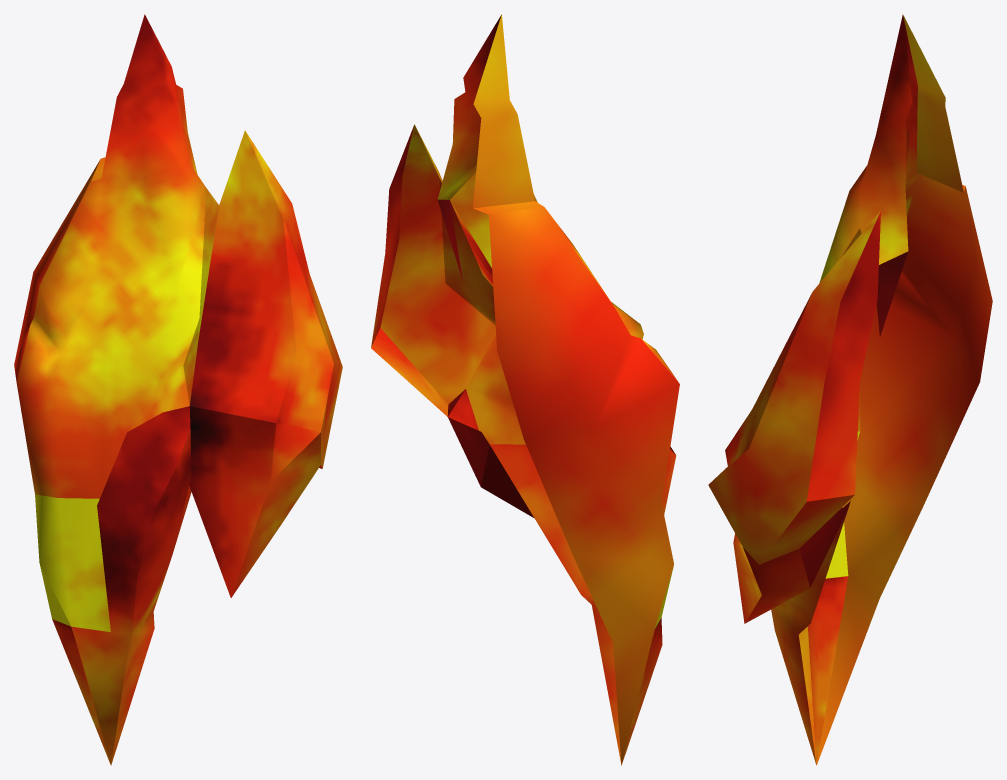
File: hs_shan_22.FBX
3 renders of one model, left to right at view 1: azimuth 30°, elevation 25°; view 2: azimuth 150°, elevation 25°; view 3: azimuth 270°, elevation 25°, orthographic. The views are drawn at different scales.
Parts seen in each view (by area): view 1: hs_shan_22; view 2: hs_shan_22; view 3: hs_shan_22.
Part boxes in pixels (x1=…): hs_shan_22: x1=14, y1=14, x2=342, y2=765; hs_shan_22: x1=371, y1=14, x2=679, y2=765; hs_shan_22: x1=708, y1=14, x2=992, y2=765.
Bounding box in the file's own units: 94.73 × 212 × 69.06.
